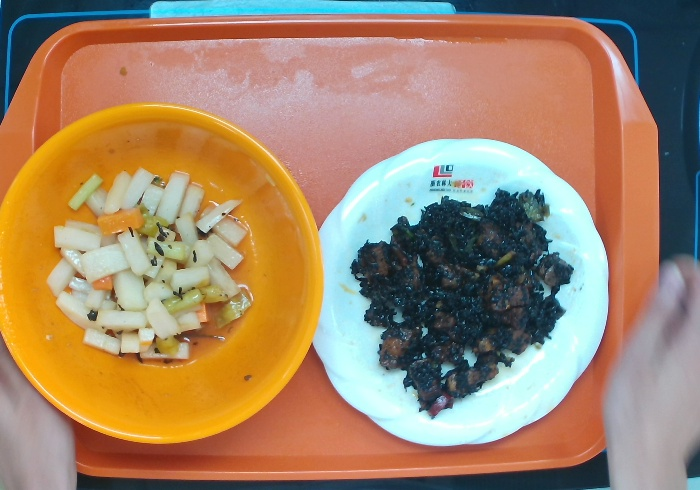ZNLD-Hua_Bian_Wan: (310, 136, 611, 447)
ZNLD-Ju_Se_Tang_Wan: (1, 100, 325, 445)
